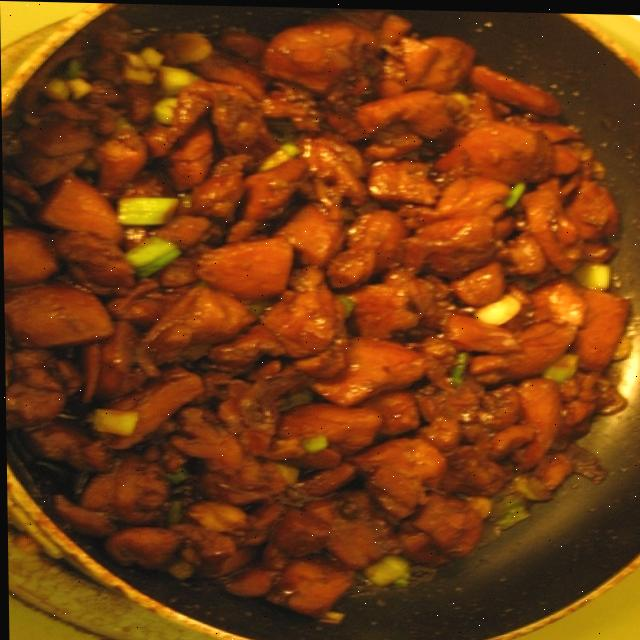鸡肉料理 含炸鸡: (11, 0, 640, 634)
